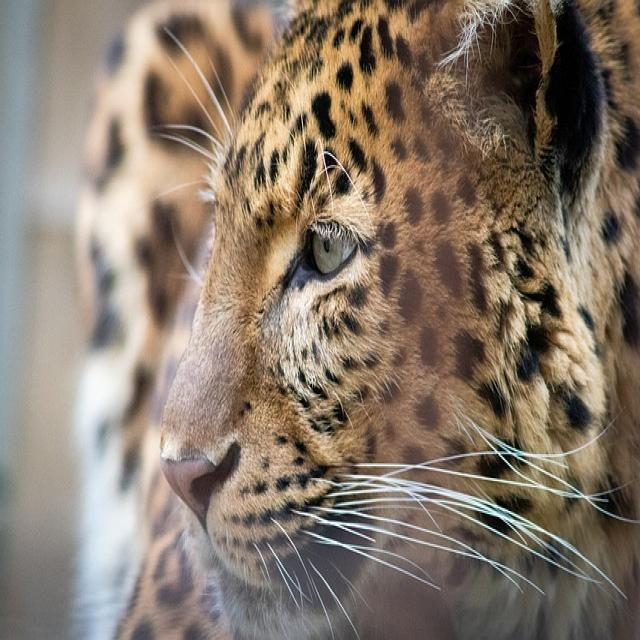Carnivorous: (70, 0, 640, 640)
